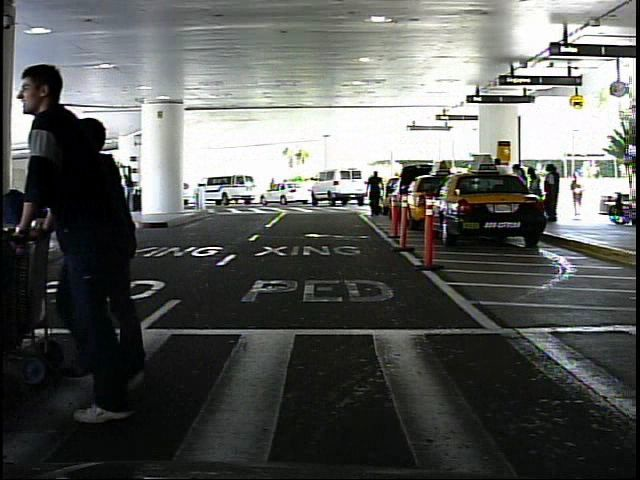person: (28, 51, 169, 430), (364, 167, 387, 221), (571, 172, 590, 218), (109, 174, 126, 212)
